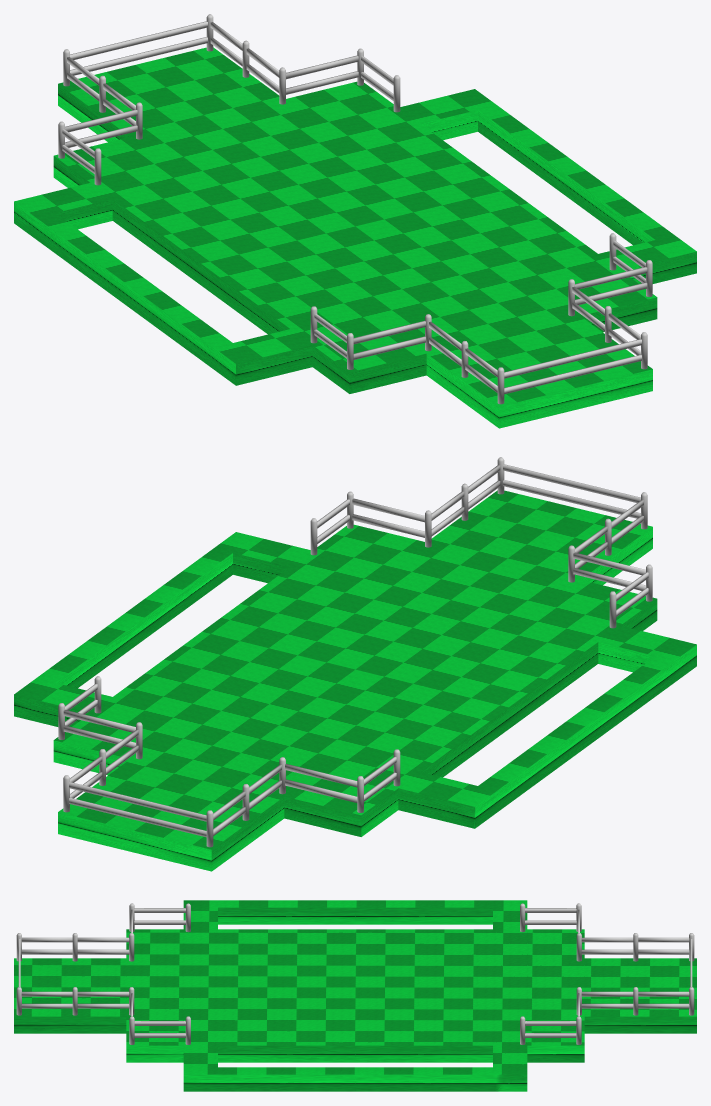
Rendered from level1-panel001.fbx.
3 renders of one model, top to bottom at view 1: azimuth 30°, elevation 25°; view 2: azimuth 150°, elevation 25°; view 3: azimuth 270°, elevation 25°, orthographic. The views are drawn at different scales.
Visible parts, largest first — view 1: Cube, Cylinder; view 2: Cube, Cylinder; view 3: Cube, Cylinder.
Part boxes in pixels (x1=…): Cube: x1=14, y1=47, x2=696, y2=428; Cylinder: x1=58, y1=14, x2=652, y2=404; Cube: x1=14, y1=490, x2=696, y2=871; Cylinder: x1=58, y1=457, x2=652, y2=847; Cube: x1=14, y1=900, x2=696, y2=1091; Cylinder: x1=16, y1=903, x2=694, y2=1044.
Bounding box in the file's own units: 10.99 × 1.29 × 18.22.
